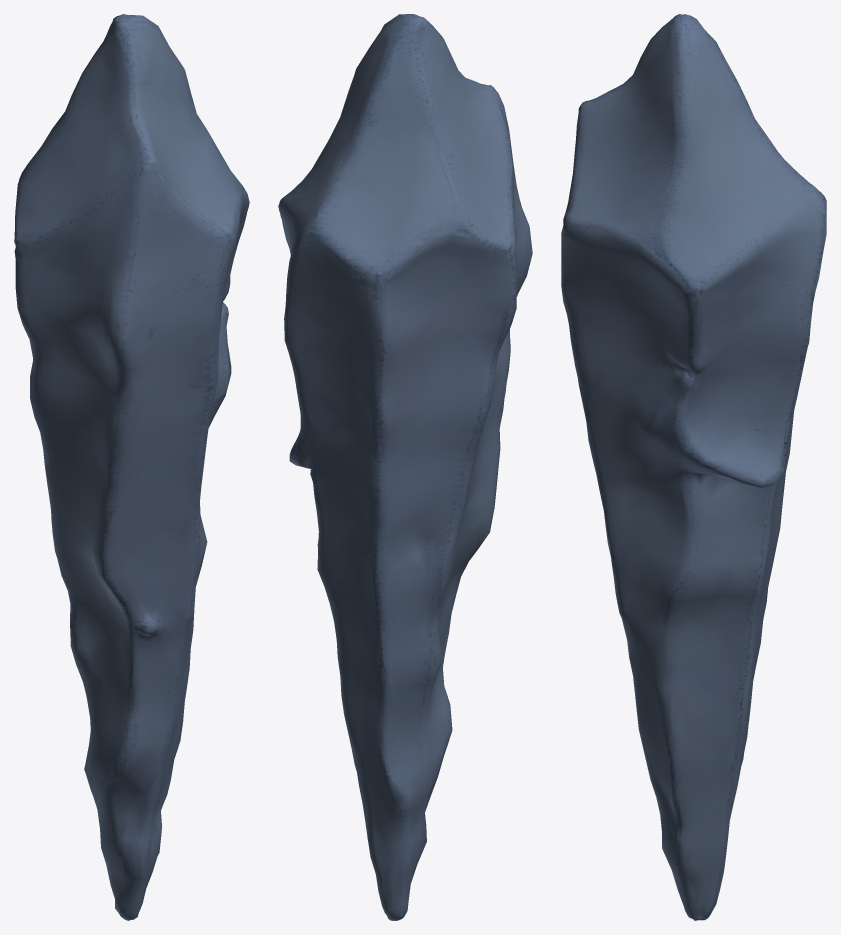
3 renders of one model, left to right at view 1: azimuth 30°, elevation 25°; view 2: azimuth 150°, elevation 25°; view 3: azimuth 270°, elevation 25°, orthographic.
Parts seen in each view (by area): view 1: tripo_node_9ad6f29d-0dff-4aa5-be46-d4f6ebe4fdf3; view 2: tripo_node_9ad6f29d-0dff-4aa5-be46-d4f6ebe4fdf3; view 3: tripo_node_9ad6f29d-0dff-4aa5-be46-d4f6ebe4fdf3.
Part boxes in pixels (x1=…): tripo_node_9ad6f29d-0dff-4aa5-be46-d4f6ebe4fdf3: x1=14, y1=14, x2=249, y2=920; tripo_node_9ad6f29d-0dff-4aa5-be46-d4f6ebe4fdf3: x1=278, y1=14, x2=532, y2=920; tripo_node_9ad6f29d-0dff-4aa5-be46-d4f6ebe4fdf3: x1=561, y1=14, x2=826, y2=920.
Bounding box in the file's own units: 0.2676 × 0.998 × 0.2676.
1 material, 1 textured.
